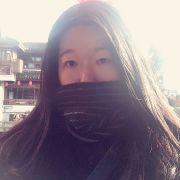WRONG: (56, 46, 121, 111)
